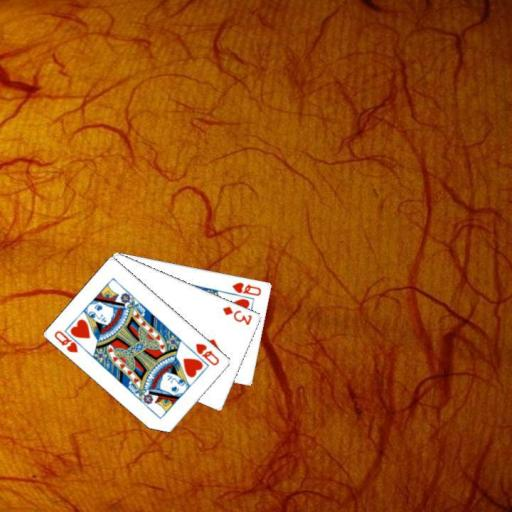3D: (220, 303, 254, 327)
QH: (51, 327, 88, 354), (193, 340, 221, 367), (229, 279, 263, 297)
